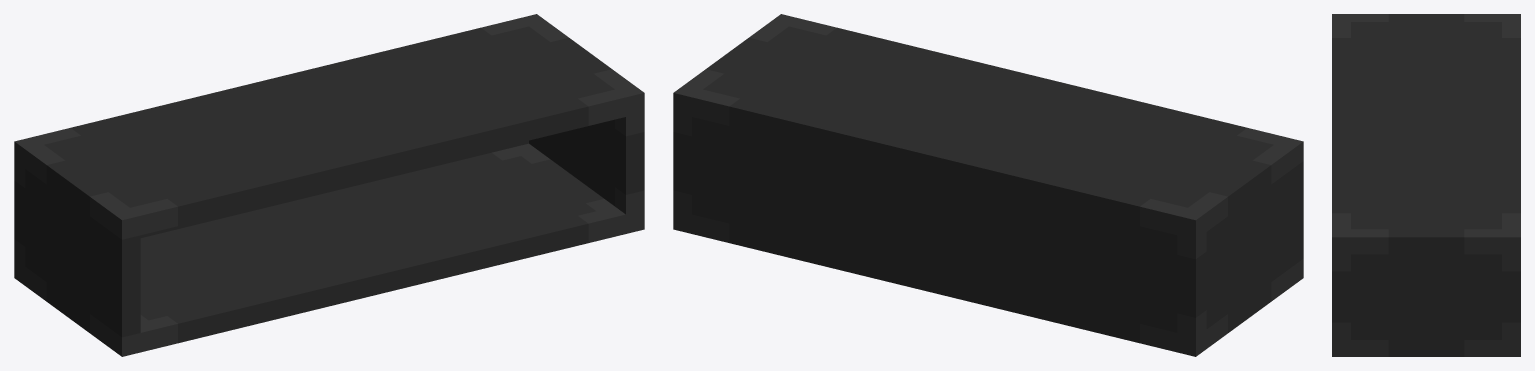
Rendered from Decor-54.obj.
The picture shows the model from 3 angles, left to right: view 1: azimuth 30°, elevation 25°; view 2: azimuth 150°, elevation 25°; view 3: azimuth 270°, elevation 25°; orthographic projection. The views are drawn at different scales.
Bounding box in the file's own units: 2.8 × 0.7 × 1.
Materials: 1 (1 with a texture image).
